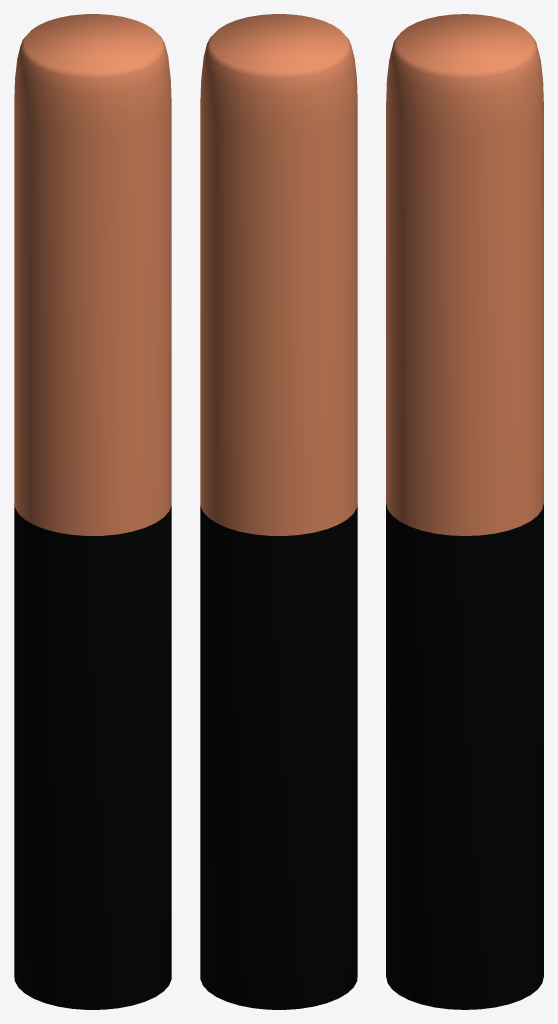
Rendered from gate_side.fbx.
3 renders of one model, left to right at view 1: azimuth 30°, elevation 25°; view 2: azimuth 150°, elevation 25°; view 3: azimuth 270°, elevation 25°, orthographic.
Visible parts, largest first — view 1: Cylinder; view 2: Cylinder; view 3: Cylinder.
Part boxes in pixels (<box>): Cylinder: <box>14,14,171,1009</box>; Cylinder: <box>200,14,357,1009</box>; Cylinder: <box>386,14,543,1009</box>.
Bounding box in the file's own units: 18.68 × 122 × 18.68.
